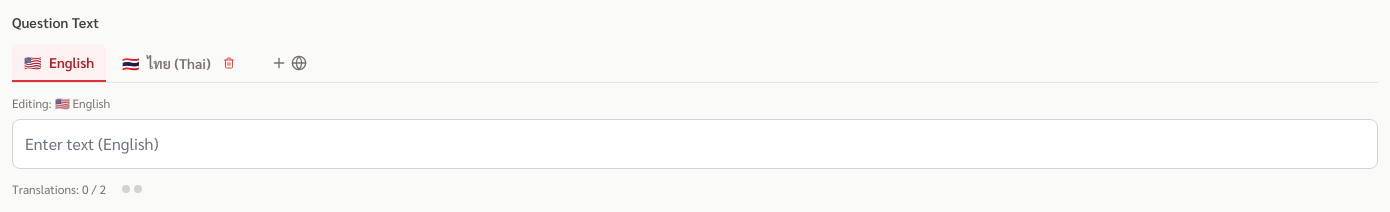
Scenario: MultiLanguageEditor › Content Editing › should update placeholder based on active language
Expected: the field with placeholder "Enter text (English)" is shown, [12, 119, 1378, 169]
Click the button "🇹🇭 ไทย (Thai)".
click(181, 63)  # box [110, 45, 251, 81]
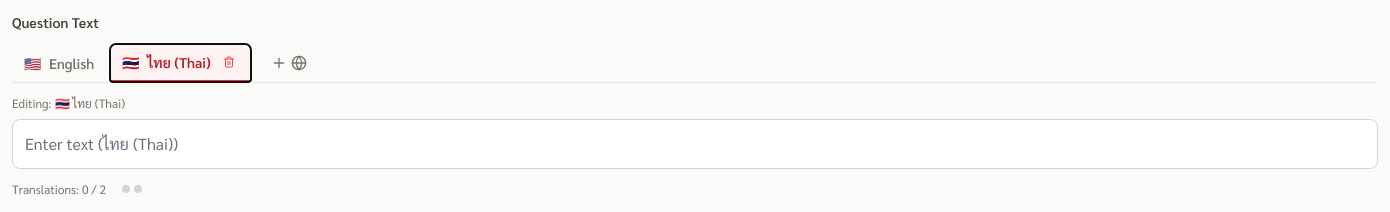
Result: the field with placeholder "Enter text (ไทย (Thai))" is shown at [12, 119, 1378, 169]
